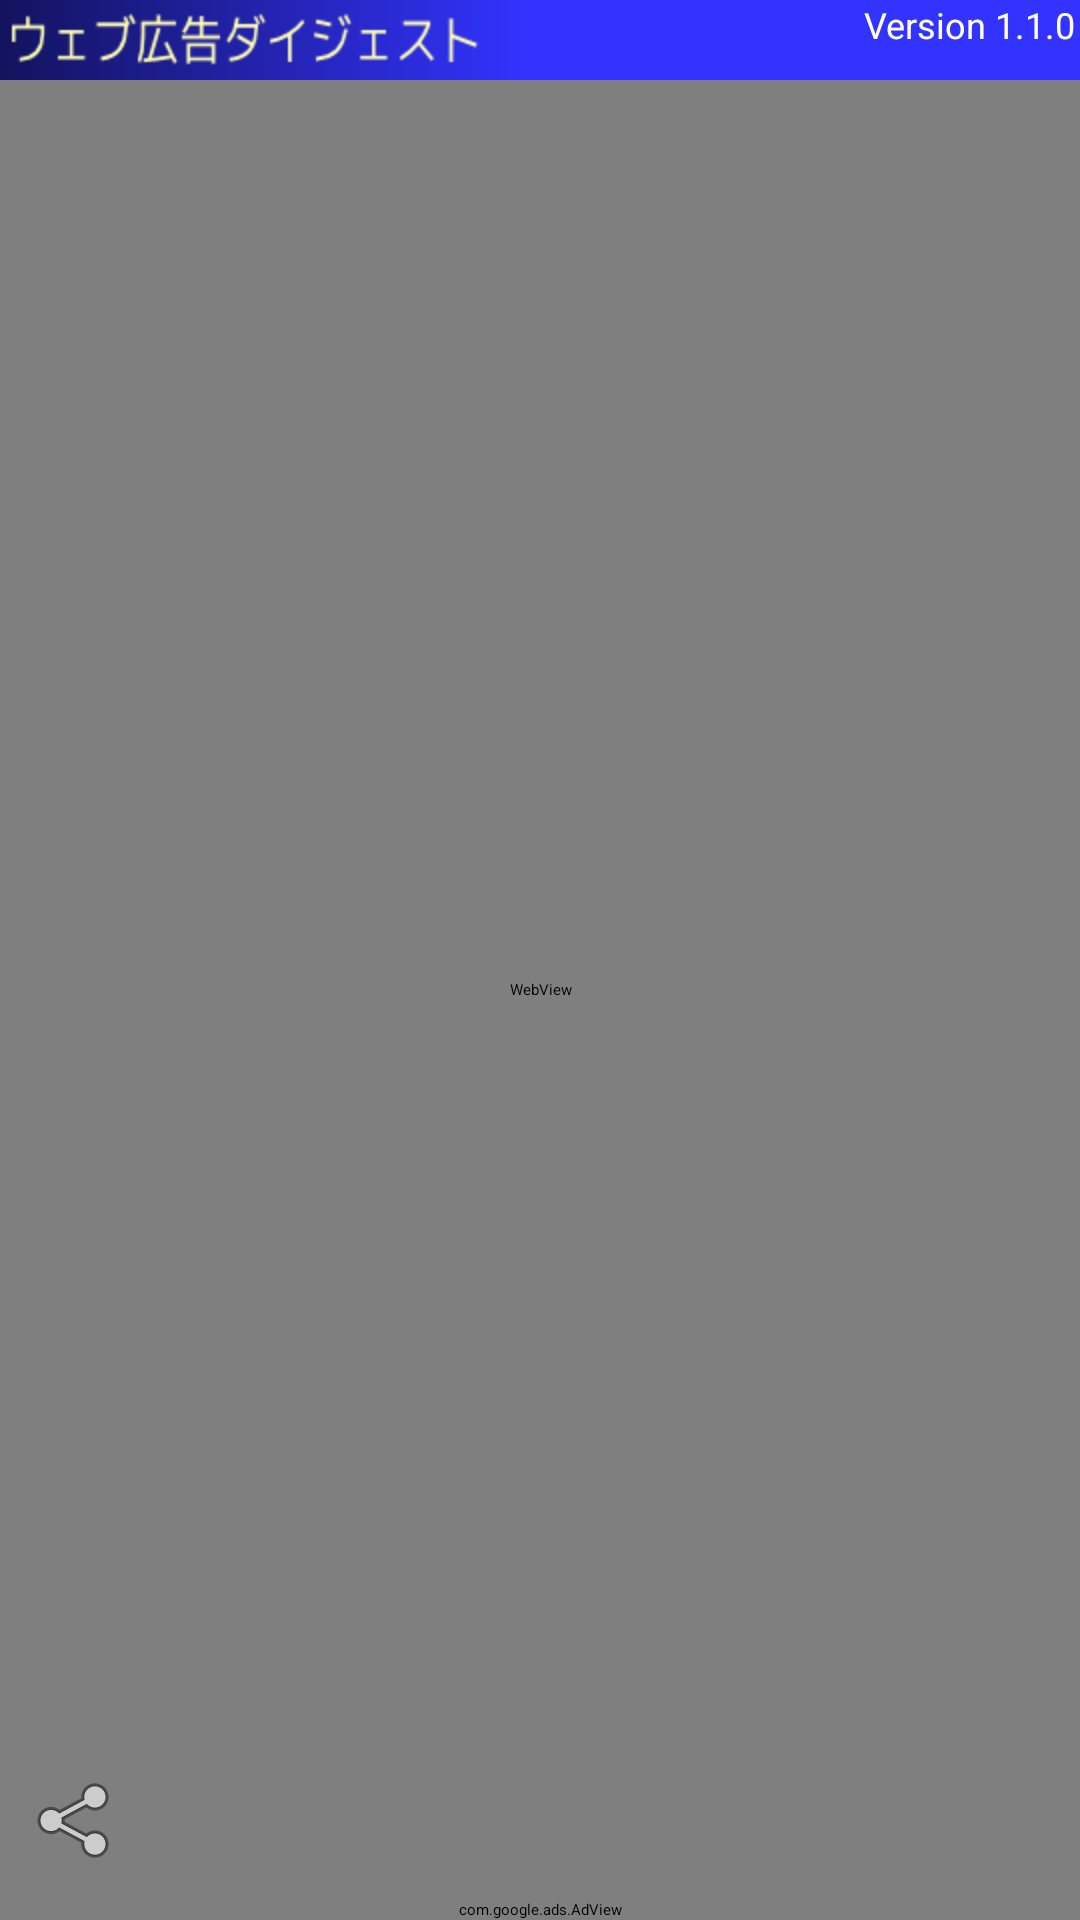

Icons on this 1080 x 1920 Android screen, each with the point to tap as point (x, y):
Share: point (73, 1820)
